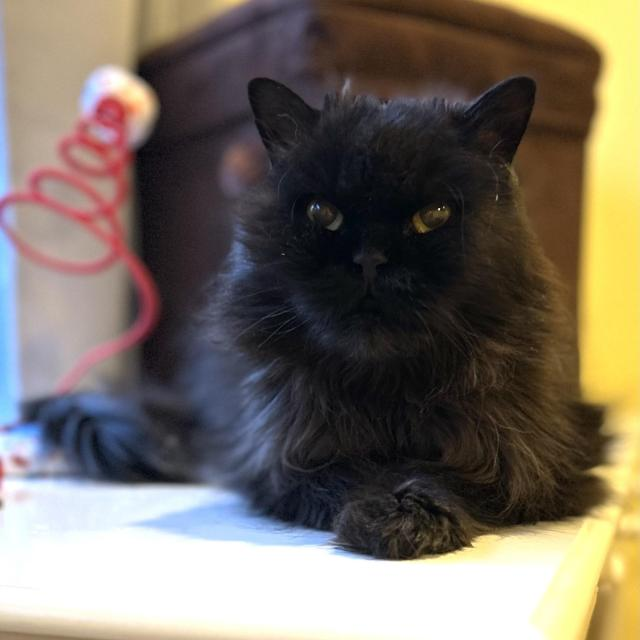persian_cat: (210, 60, 556, 412)
